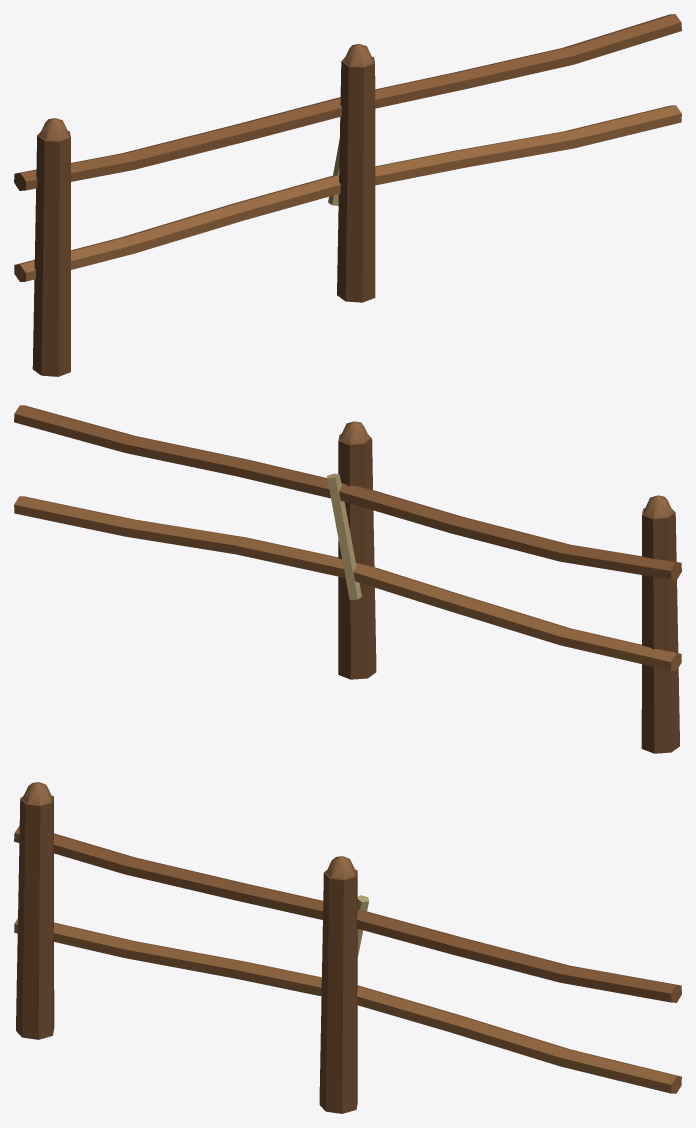
File: fence_wood.glb
3 renders of one model, top to bottom at view 1: azimuth 30°, elevation 25°; view 2: azimuth 150°, elevation 25°; view 3: azimuth 330°, elevation 25°, orthographic.
Visible parts, largest first — view 1: fence_wood_mesh; view 2: fence_wood_mesh; view 3: fence_wood_mesh.
Part boxes in pixels (x1,y1,x2,y2): fence_wood_mesh: (14, 14, 681, 376); fence_wood_mesh: (14, 405, 681, 753); fence_wood_mesh: (14, 782, 681, 1113).
Bounding box in the file's own units: 3.25 × 1.18 × 0.2143.
